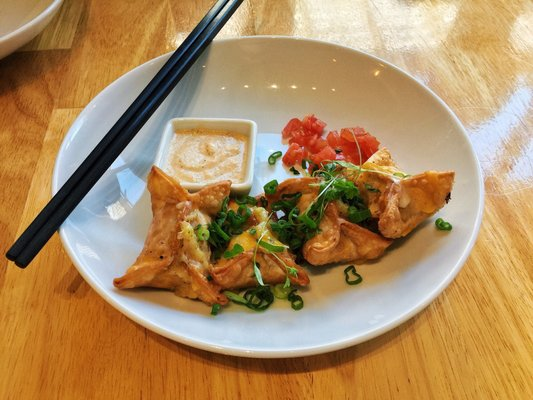burger: (3, 0, 250, 273)
sushi: (158, 118, 256, 195), (0, 0, 66, 61)
